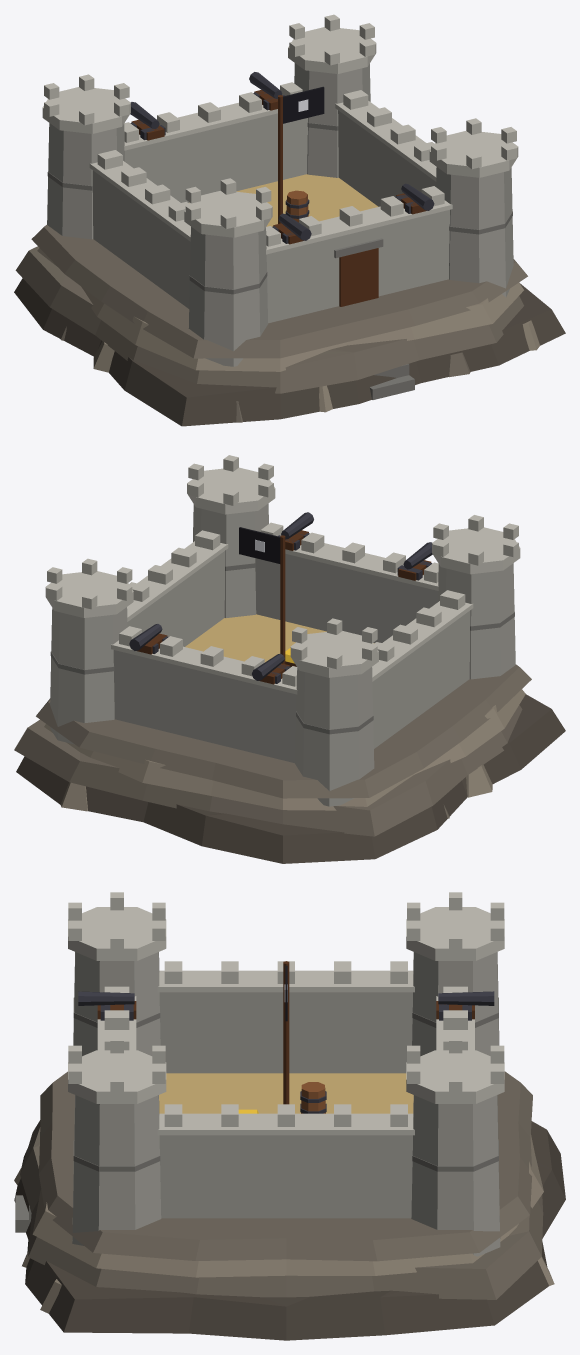
File: sea-fort-3x3.glb
3 renders of one model, top to bottom at view 1: azimuth 30°, elevation 25°; view 2: azimuth 150°, elevation 25°; view 3: azimuth 270°, elevation 25°, orthographic. The views are drawn at different scales.
Parts seen in each view (by area): view 1: SeaFort3x3; view 2: SeaFort3x3; view 3: SeaFort3x3.
Boxes of the visible parts, x1=… form: SeaFort3x3: x1=14, y1=14, x2=565, y2=426; SeaFort3x3: x1=14, y1=455, x2=565, y2=863; SeaFort3x3: x1=14, y1=892, x2=565, y2=1340.
Bounding box in the file's own units: 2.88 × 1.47 × 2.85.
Materials: 1 (1 with a texture image).
